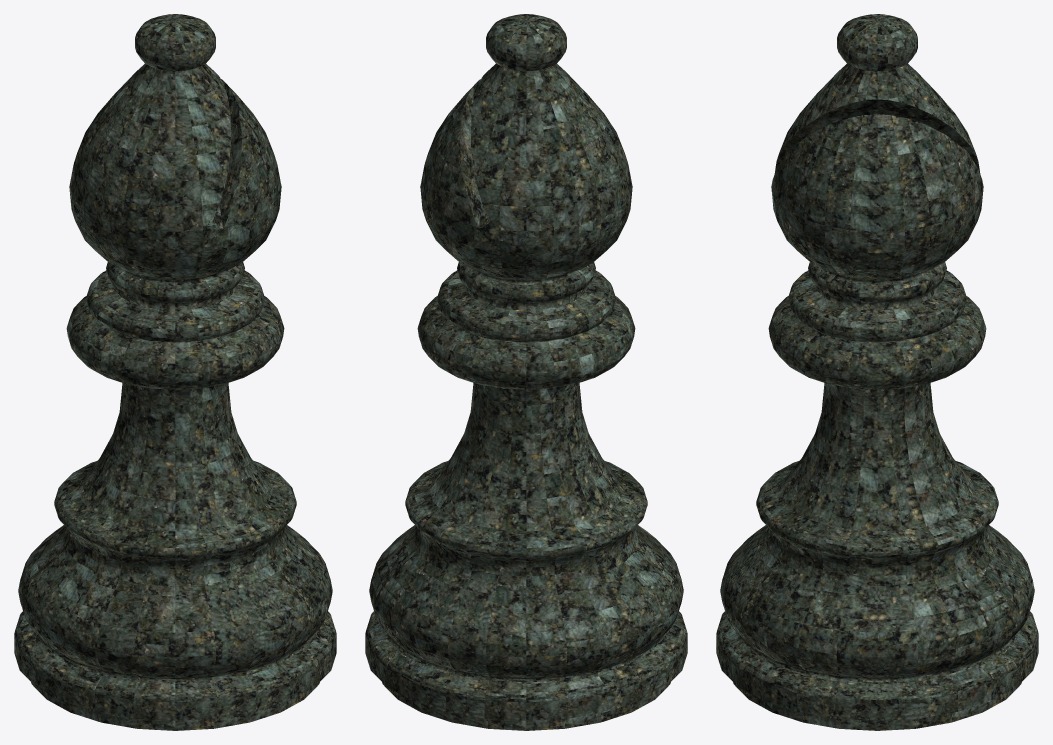
Rendered from black_bishop.fbx.
3 renders of one model, left to right at view 1: azimuth 30°, elevation 25°; view 2: azimuth 150°, elevation 25°; view 3: azimuth 270°, elevation 25°, orthographic.
Parts seen in each view (by area): view 1: Model; view 2: Model; view 3: Model.
Part boxes in pixels (left/top/right/bottom): Model: left=14, top=14, right=336, bottom=730; Model: left=365, top=14, right=687, bottom=730; Model: left=716, top=14, right=1038, bottom=730.
Bounding box in the file's own units: 12.26 × 27.15 × 12.26.
Materials: 1 (1 with a texture image).
